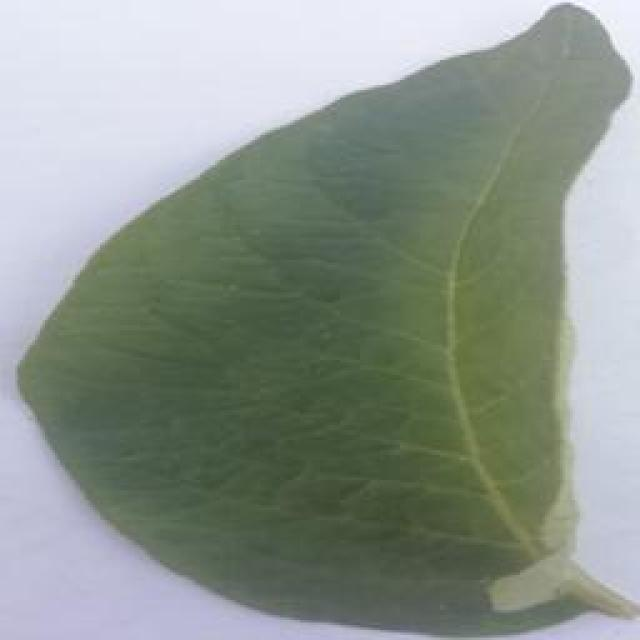Potato_Healthy: (14, 4, 630, 628)
